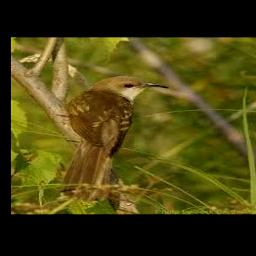Cuckoo: (57, 75, 168, 202)
